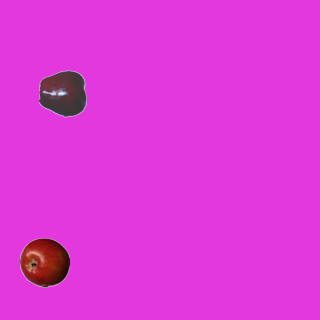Apple Braeburn: (19, 237, 69, 287)
Apple Red Delicious: (38, 68, 88, 118)
